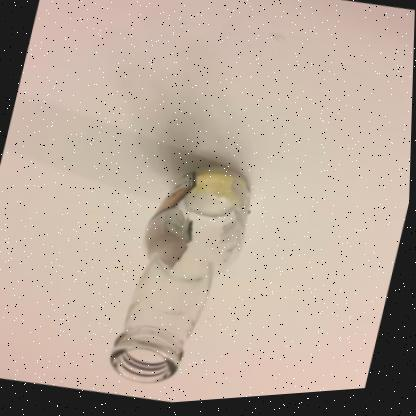Glass: (112, 169, 252, 385)
